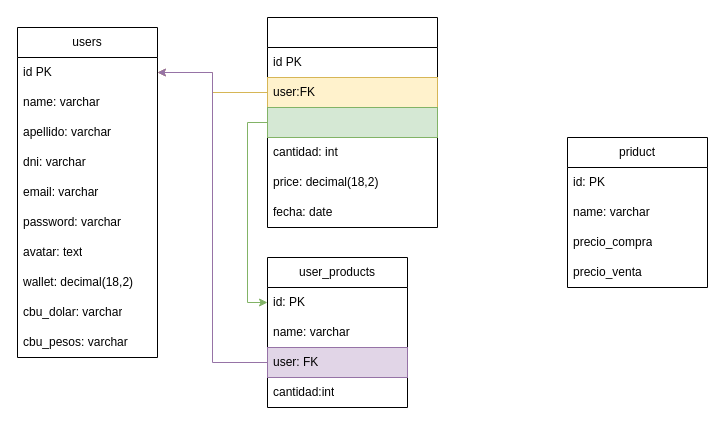
This 725x425 diagram has some shape labels left out. Each missing label, with the box of its shape:
product FK: (266, 106, 438, 138)
transaction: (266, 16, 438, 228)
